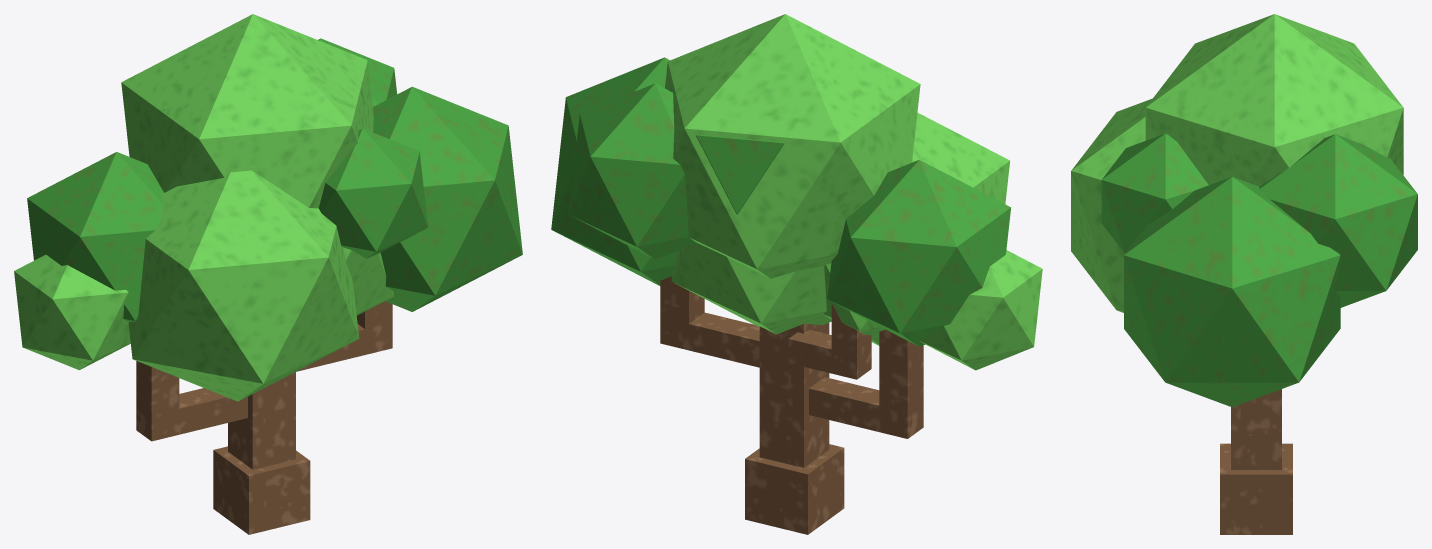
Rendered from tree_lowpoly_canopy_bright.glb.
The picture shows the model from 3 angles, left to right: view 1: azimuth 30°, elevation 25°; view 2: azimuth 150°, elevation 25°; view 3: azimuth 270°, elevation 25°; orthographic projection. The views are drawn at different scales.
Parts seen in each view (by area): view 1: tree_lowpoly_canopy_bright.008; view 2: tree_lowpoly_canopy_bright.008; view 3: tree_lowpoly_canopy_bright.008.
Part boxes in pixels (x1,y1,x2,y2): tree_lowpoly_canopy_bright.008: [14, 14, 522, 534]; tree_lowpoly_canopy_bright.008: [551, 14, 1042, 534]; tree_lowpoly_canopy_bright.008: [1071, 14, 1417, 534].
Bounding box in the file's own units: 4.59 × 4.6 × 2.86.
Materials: 3 (3 with a texture image).
